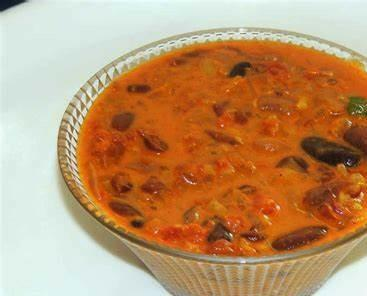RajmaCurry: (82, 31, 367, 296)
